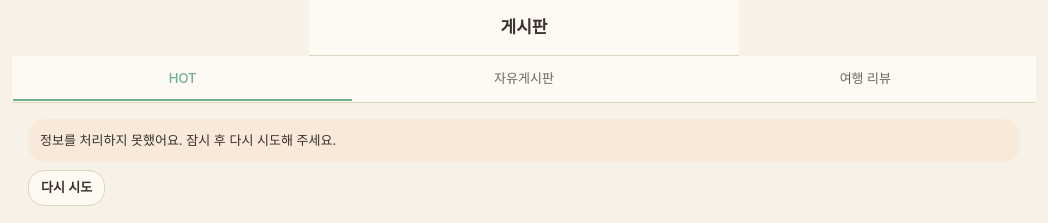
it: live community board › shows empty feed and handles first-page recovery
Click the button "다시 시도" at (67, 188), box [28,170,105,206]
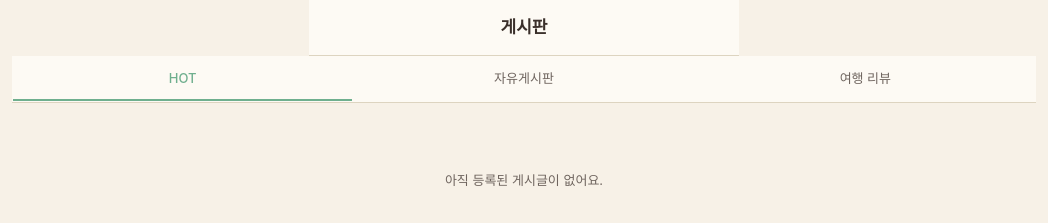
expect the text "아직 등록된 게시글이 없어요." is shown: met, box [445,172,603,188]
